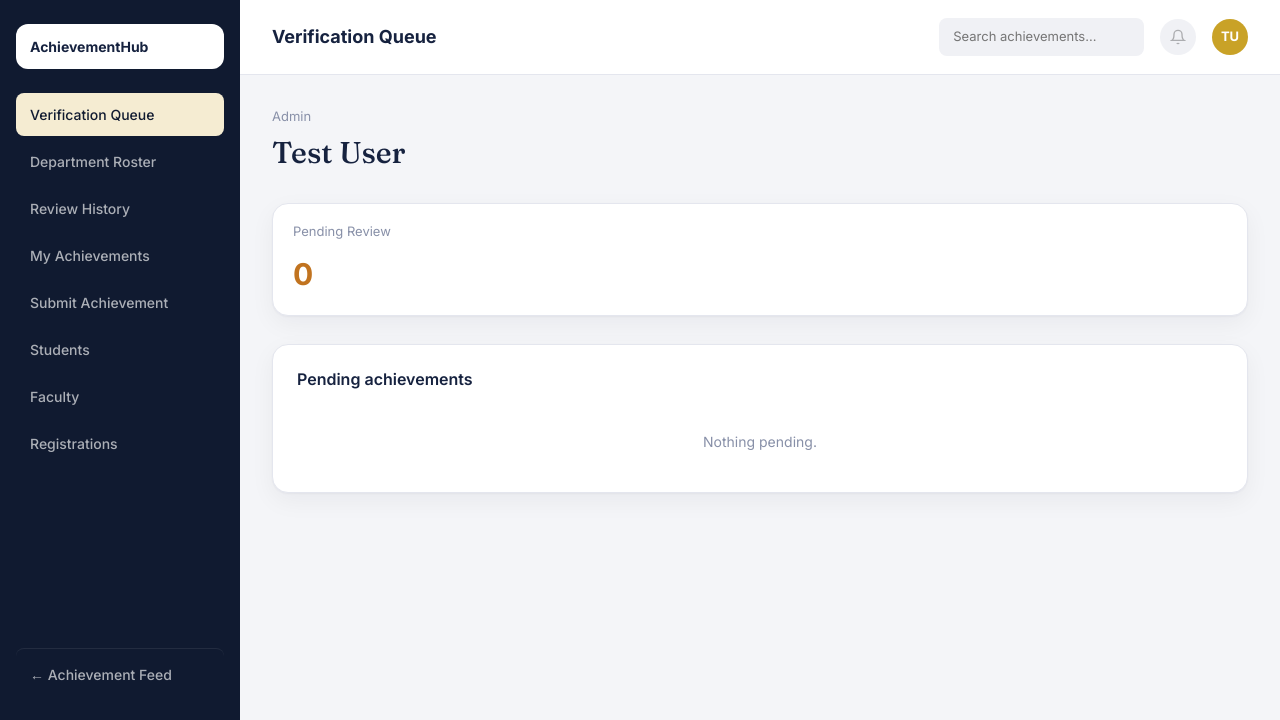
it: Roster availability › opens a working roster panel for admin
Click the button "Department Roster": (120, 162) [16,140,224,183]
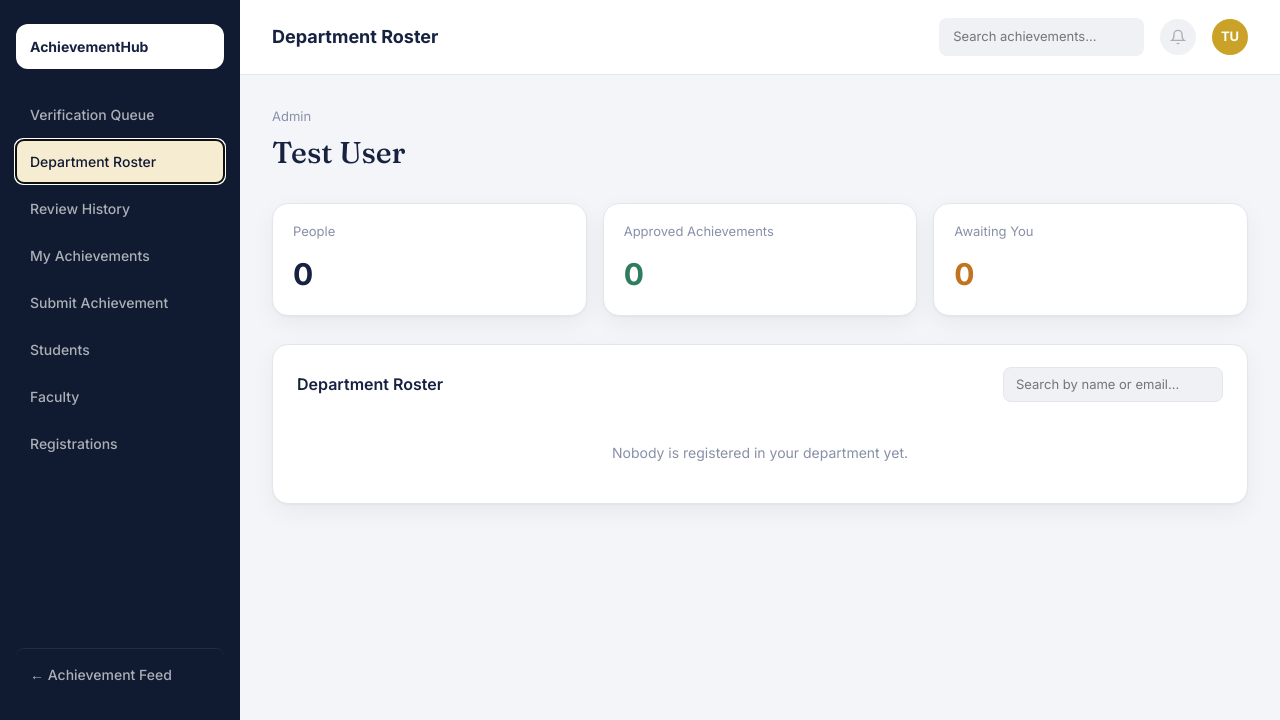
Expected: the heading "Department Roster" is shown, [297,372,443,396]
